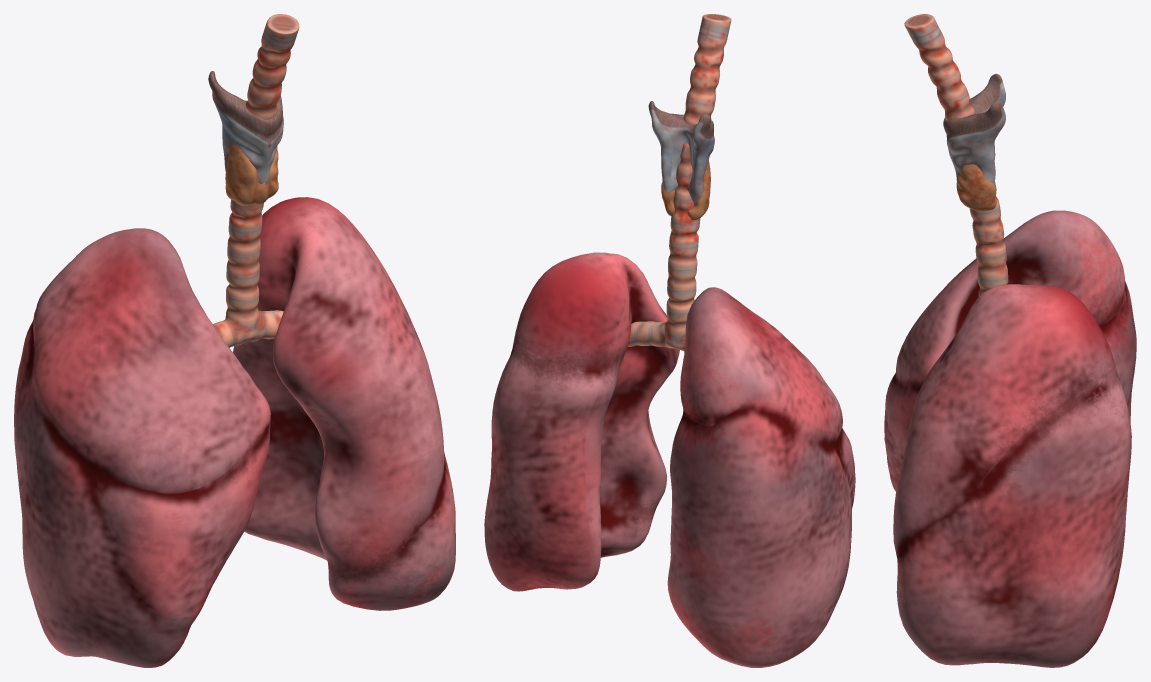
The model's file is lungs.gltf.
The picture shows the model from 3 angles, left to right: view 1: azimuth 30°, elevation 25°; view 2: azimuth 150°, elevation 25°; view 3: azimuth 270°, elevation 25°; orthographic projection. The views are drawn at different scales.
Visible parts, largest first — view 1: thairoid01:low_part02_Group6344:Group24638_thairoid01:lungh_, thairoid01:low_part01_Group6344:Group18522_thairoid01:lungh_; view 2: thairoid01:low_part02_Group6344:Group24638_thairoid01:lungh_, thairoid01:low_part01_Group6344:Group18522_thairoid01:lungh_; view 3: thairoid01:low_part02_Group6344:Group24638_thairoid01:lungh_, thairoid01:low_part01_Group6344:Group18522_thairoid01:lungh_.
Part boxes in pixels (x1,y1,x2,y2): thairoid01:low_part02_Group6344:Group24638_thairoid01:lungh_: [14, 197, 455, 667]; thairoid01:low_part01_Group6344:Group18522_thairoid01:lungh_: [208, 14, 299, 347]; thairoid01:low_part02_Group6344:Group24638_thairoid01:lungh_: [484, 252, 855, 667]; thairoid01:low_part01_Group6344:Group18522_thairoid01:lungh_: [627, 14, 731, 351]; thairoid01:low_part02_Group6344:Group24638_thairoid01:lungh_: [884, 210, 1136, 667]; thairoid01:low_part01_Group6344:Group18522_thairoid01:lungh_: [904, 14, 1008, 296].
Size of the model in its own units: 0.2233 by 0.3687 by 0.1423.
2 materials, 2 textured.
